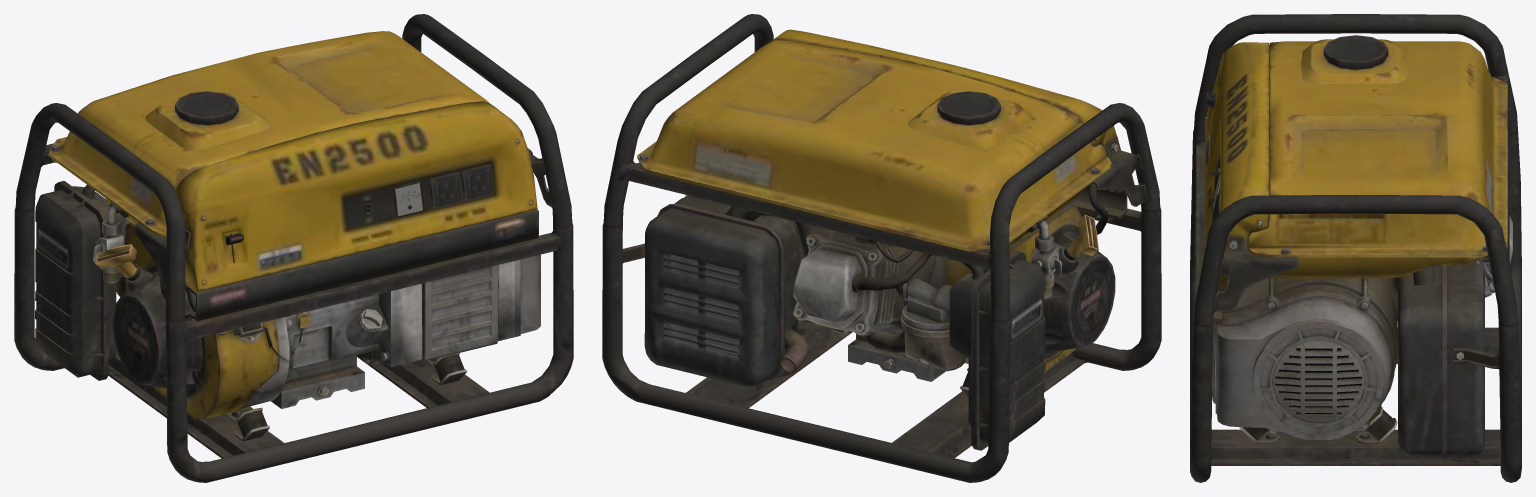
Rendered from portable_generator.glb.
The picture shows the model from 3 angles, left to right: view 1: azimuth 30°, elevation 25°; view 2: azimuth 150°, elevation 25°; view 3: azimuth 270°, elevation 25°; orthographic projection.
Visible parts, largest first — view 1: portable_generator; view 2: portable_generator; view 3: portable_generator.
Part boxes in pixels (box(x1,y1,x2,y2)): portable_generator: box(14, 14, 573, 482); portable_generator: box(602, 14, 1161, 482); portable_generator: box(1190, 14, 1521, 482).
Size of the model in its own units: 0.8169 by 0.5752 by 0.564.
2 materials, 2 textured.
